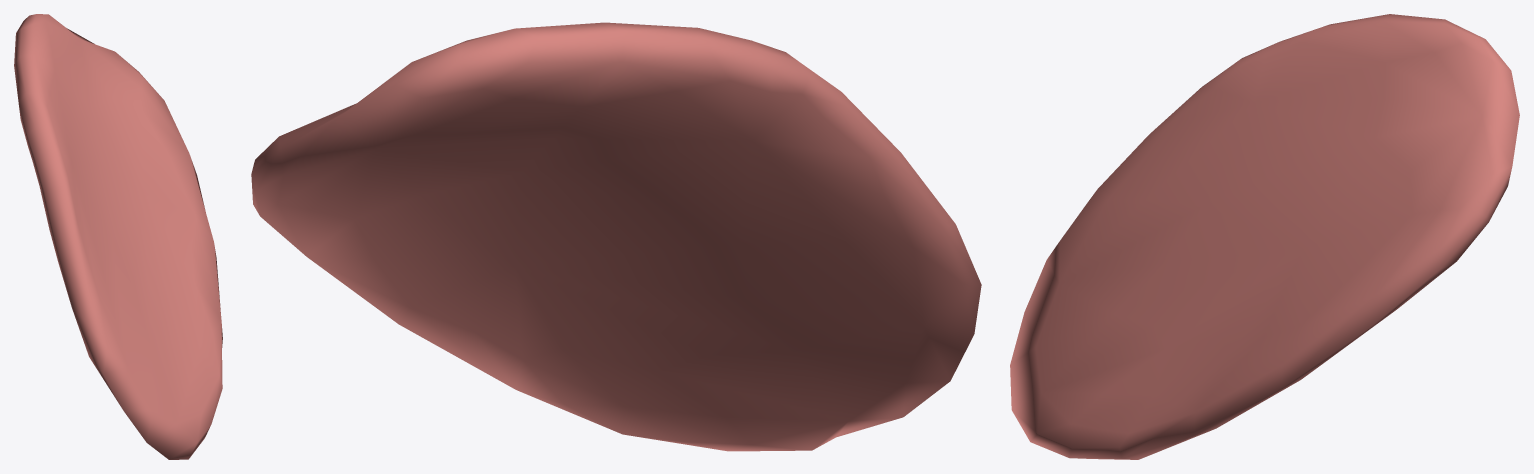
The picture shows the model from 3 angles, left to right: view 1: azimuth 30°, elevation 25°; view 2: azimuth 150°, elevation 25°; view 3: azimuth 270°, elevation 25°; orthographic projection. The views are drawn at different scales.
Visible parts, largest first — view 1: ZA_cd2c7d4c8779fb29; view 2: ZA_cd2c7d4c8779fb29; view 3: ZA_cd2c7d4c8779fb29.
Boxes of the visible parts, bbox=[...] form: ZA_cd2c7d4c8779fb29: bbox=[14, 14, 222, 459]; ZA_cd2c7d4c8779fb29: bbox=[251, 22, 981, 451]; ZA_cd2c7d4c8779fb29: bbox=[1010, 14, 1519, 459].
Size of the model in its own units: 0.00397 by 0.00543 by 0.00598.
